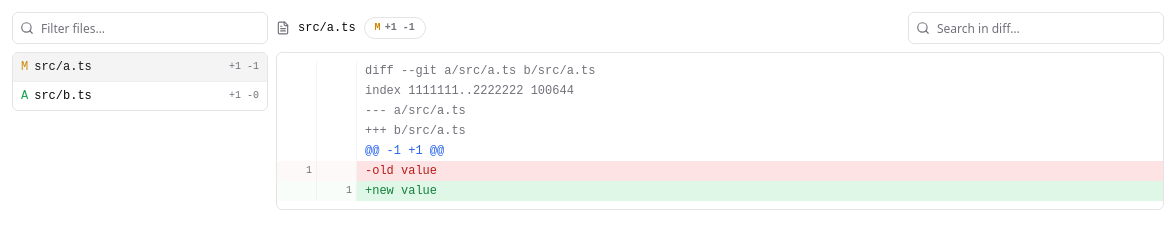
Test: DiffView › switches the diff when another file is selected
Click the button "A src/b.ts +1 -0" at (140, 96), box [13,82,267,110]
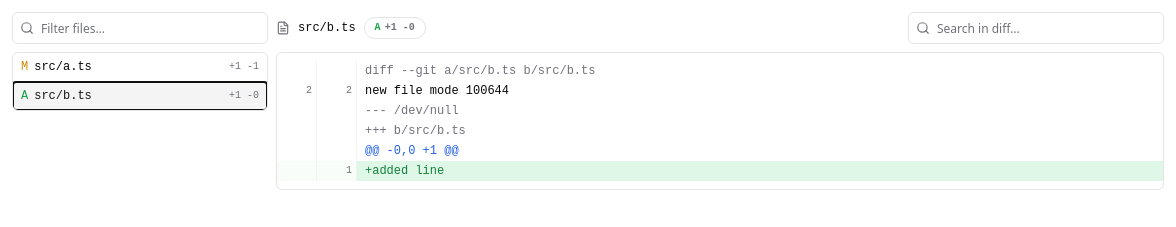
Expected: the text "+added line" is shown, [365,164,444,178]
Expected: the text "new value" is gone
